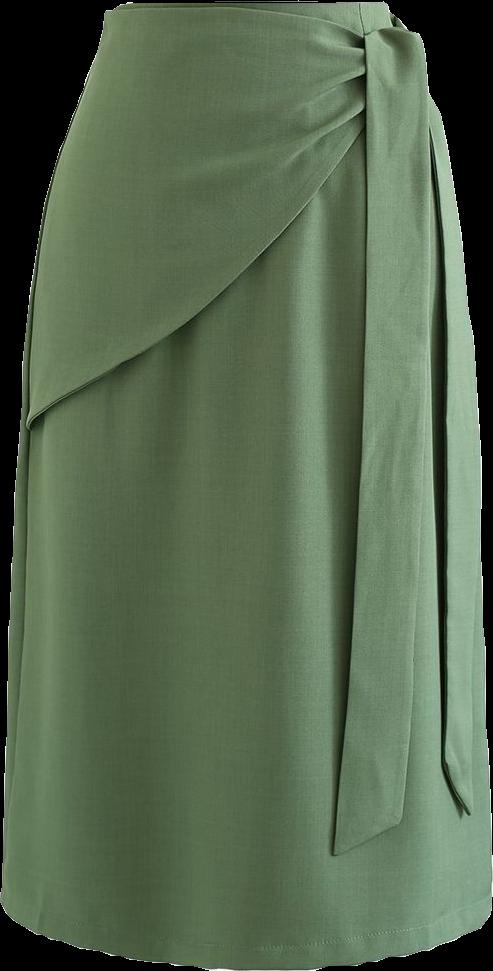Hemline: (0, 898, 491, 969)
Waistline: (103, 0, 387, 17)
